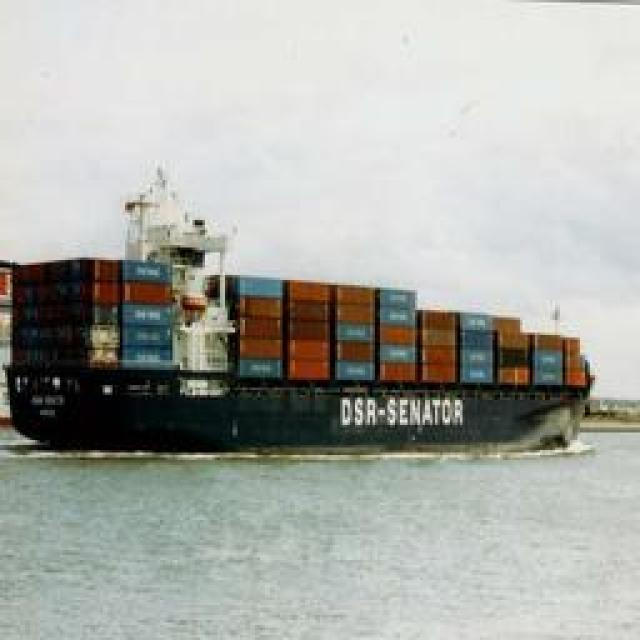ship2: (0, 168, 594, 457)
